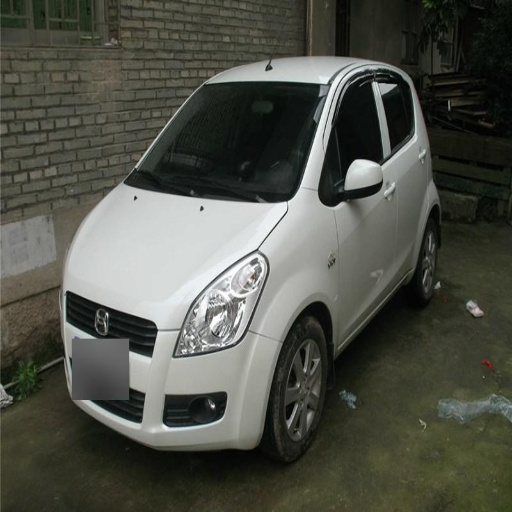front_bumper: (67, 290, 280, 449)
front_glass: (126, 84, 327, 200)
front_left_door: (321, 69, 391, 342)
